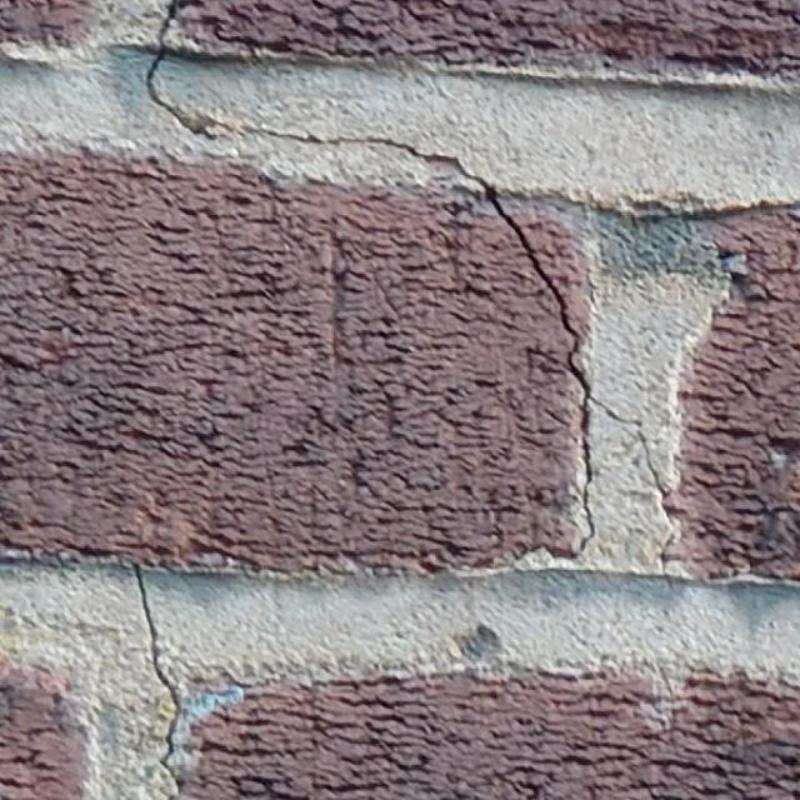pothole: (245, 127, 688, 574), (134, 564, 181, 799), (147, 0, 217, 138)
